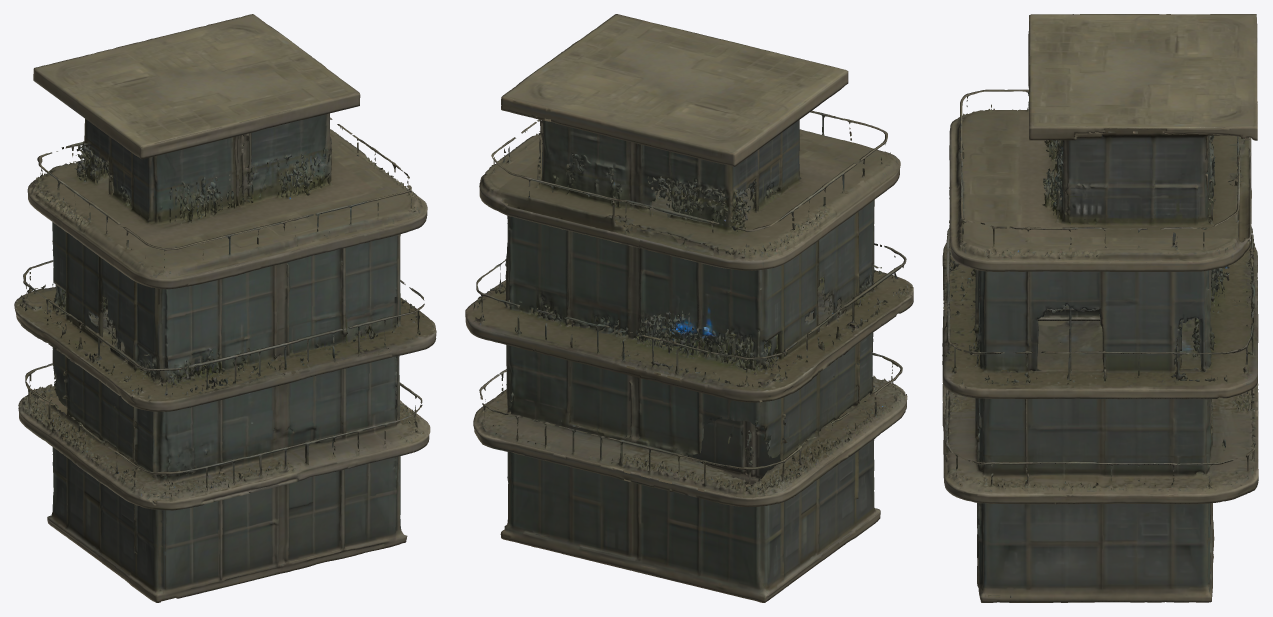
The model's file is Laboratory_Tower.glb.
The picture shows the model from 3 angles, left to right: view 1: azimuth 30°, elevation 25°; view 2: azimuth 150°, elevation 25°; view 3: azimuth 270°, elevation 25°; orthographic projection. The views are drawn at different scales.
Parts seen in each view (by area): view 1: Mesh_0; view 2: Mesh_0; view 3: Mesh_0.
Boxes of the visible parts, x1,y1,x2,y2 form: Mesh_0: [14, 14, 436, 602]; Mesh_0: [465, 14, 913, 602]; Mesh_0: [942, 14, 1258, 602].
Bounding box in the file's own units: 7.29 × 10 × 6.17.
1 material, 1 textured.
